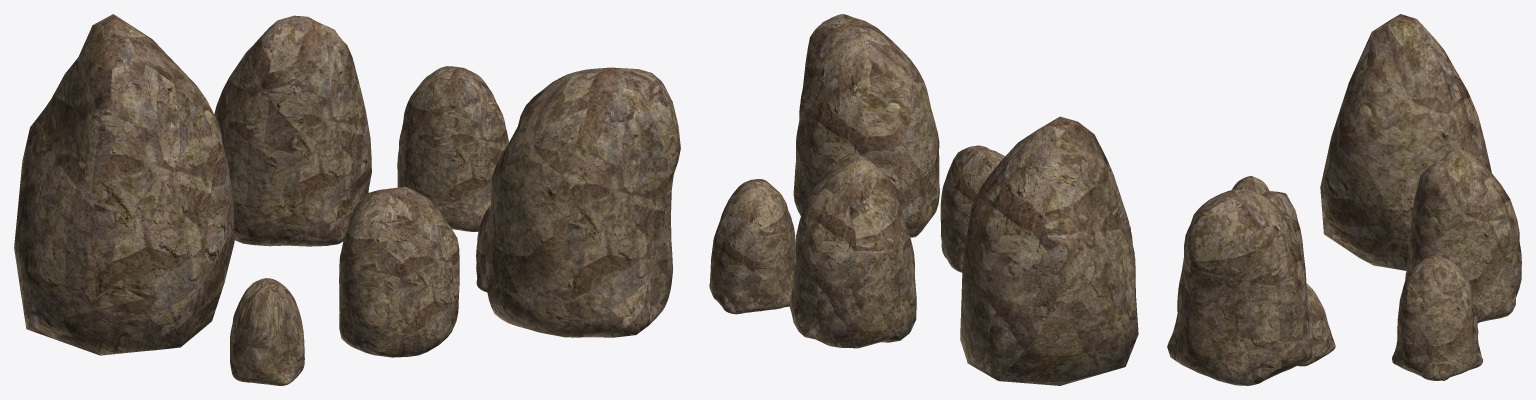
File: Pedrass.fbx
3 views of the same model, side by side, from view 1: azimuth 30°, elevation 25°; view 2: azimuth 150°, elevation 25°; view 3: azimuth 270°, elevation 25° (orthographic). The views are drawn at different scales.
Parts seen in each view (by area): view 1: pCube4, pCube1, pCube5, pedras02, pCube2, pCube6, pCube3; view 2: pCube4, pCube1, pCube5, pCube2, pedras02; view 3: pCube4, pCube1, pCube5, pCube2, pCube3, pedras02, pCube6.
Part boxes in pixels (bbox=[...]): pCube4: bbox=[14, 14, 234, 355]; pCube1: bbox=[485, 67, 680, 337]; pCube5: bbox=[214, 15, 371, 246]; pedras02: bbox=[339, 187, 459, 357]; pCube2: bbox=[397, 66, 508, 231]; pCube6: bbox=[230, 278, 304, 385]; pCube3: bbox=[476, 206, 490, 292]; pCube4: bbox=[960, 116, 1138, 385]; pCube1: bbox=[793, 14, 939, 237]; pCube5: bbox=[789, 153, 916, 348]; pCube2: bbox=[709, 179, 795, 314]; pedras02: bbox=[940, 145, 1004, 272]; pCube4: bbox=[1320, 14, 1491, 270]; pCube1: bbox=[1167, 188, 1312, 385]; pCube5: bbox=[1405, 148, 1521, 323]; pCube2: bbox=[1392, 256, 1482, 380]; pCube3: bbox=[1298, 283, 1335, 366]; pedras02: bbox=[1261, 191, 1306, 282]; pCube6: bbox=[1232, 176, 1269, 194].
Size of the model in its own units: 7.89 by 4.51 by 6.27.
Materials: 1 (1 with a texture image).
